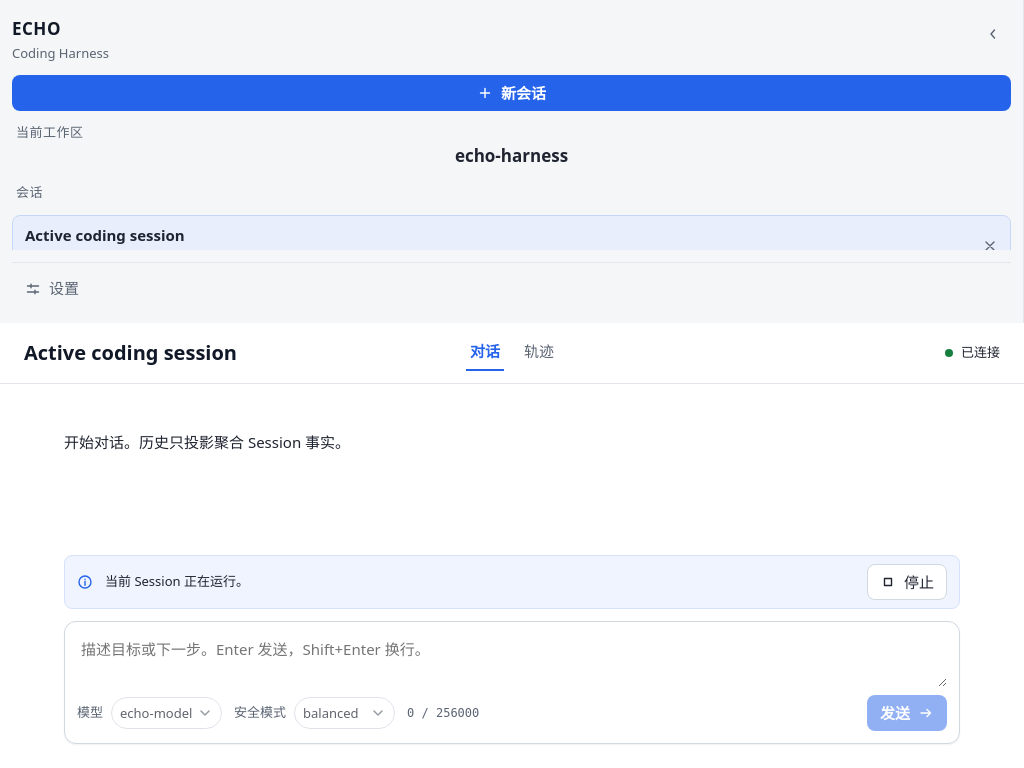
Test case: Session rail paging through Fake transport › explains that deleting the running session stops its Turn first
The width and height of the screenshot is (1024, 768).
Click the button named "删除会话 Active coding session".
click(990, 246)  # box [974,230,1006,262]
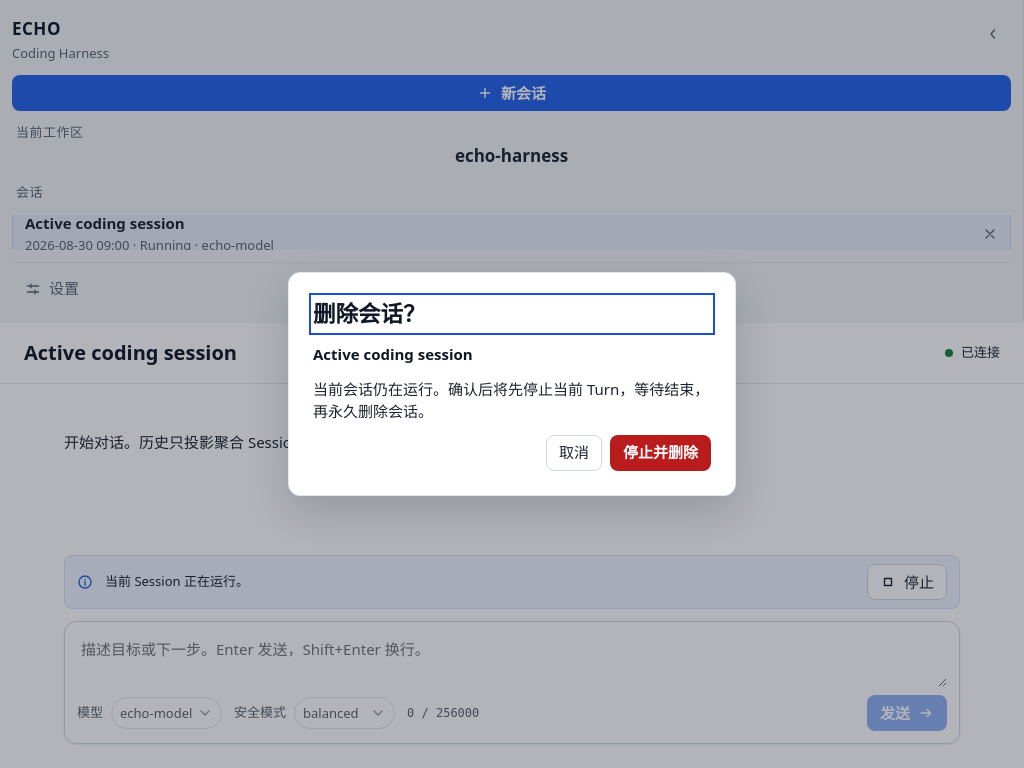
Expected: the text "当前会话仍在运行。确认后将先停止当前 Turn，等待结束，再永久删除会话。" is shown, [313,378,711,423]
Click the button "停止并删除".
click(660, 453)  # box [610,435,711,471]
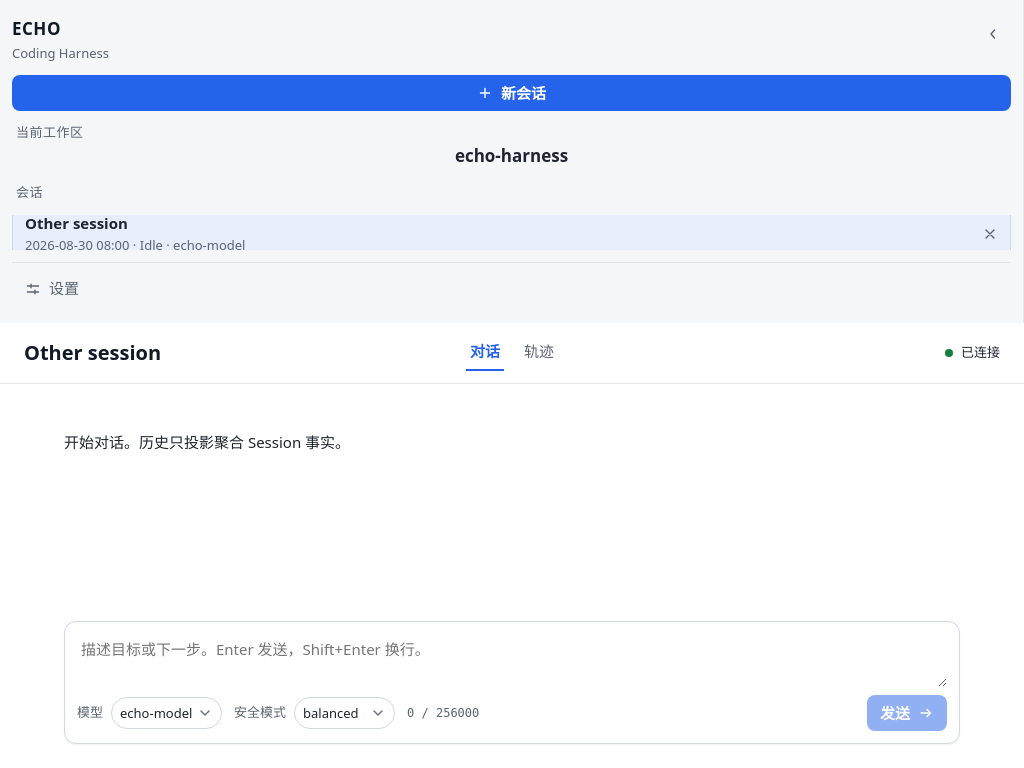
Expected: the button titled "Active coding session" is gone
